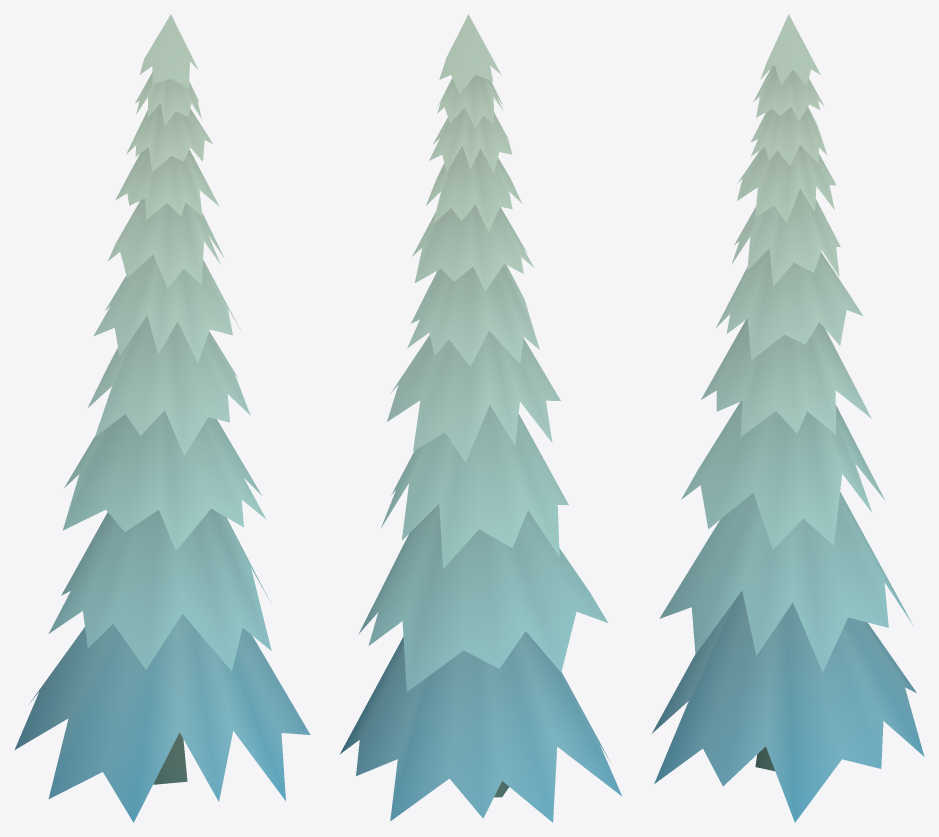
File: prop-spruce_1.glb
3 views of the same model, side by side, from view 1: azimuth 30°, elevation 25°; view 2: azimuth 150°, elevation 25°; view 3: azimuth 270°, elevation 25° (orthographic). The views are drawn at different scales.
Visible parts, largest first — view 1: prop-spruce1; view 2: prop-spruce1; view 3: prop-spruce1.
Boxes of the visible parts, x1,y1,x2,y2 form: prop-spruce1: [14, 14, 310, 822]; prop-spruce1: [339, 14, 622, 822]; prop-spruce1: [652, 14, 924, 822].
Bounding box in the file's own units: 5.24 × 14.6 × 4.8.
